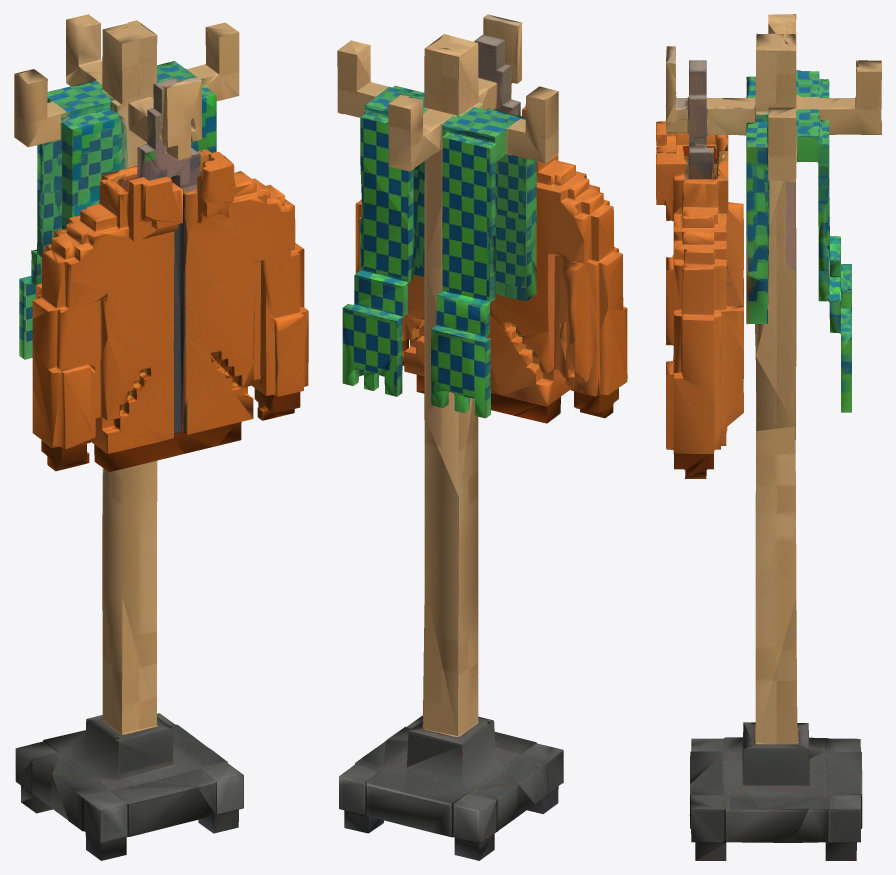
Rendered from coat_rack.glb.
The picture shows the model from 3 angles, left to right: view 1: azimuth 30°, elevation 25°; view 2: azimuth 150°, elevation 25°; view 3: azimuth 270°, elevation 25°; orthographic projection.
Size of the model in its own units: 0.6855 by 2 by 0.5214.
Materials: 1 (1 with a texture image).
